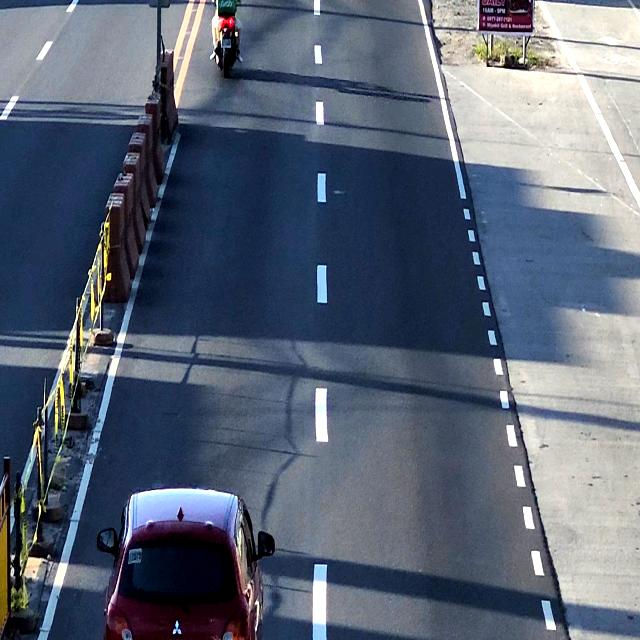Car: (103, 483, 264, 640)
Motorcycle: (210, 0, 246, 75)
